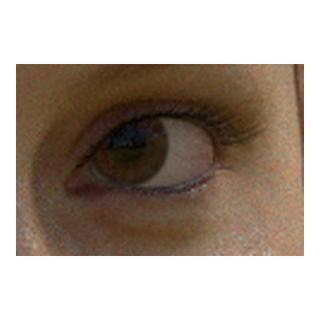pupil: (109, 127, 144, 162)
